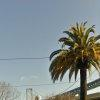Palm tree: (44, 12, 100, 99)
